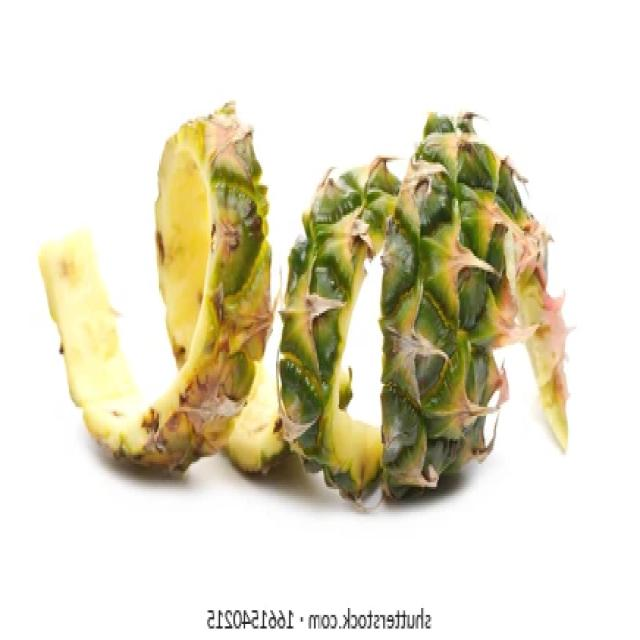organic: (38, 99, 569, 511)
